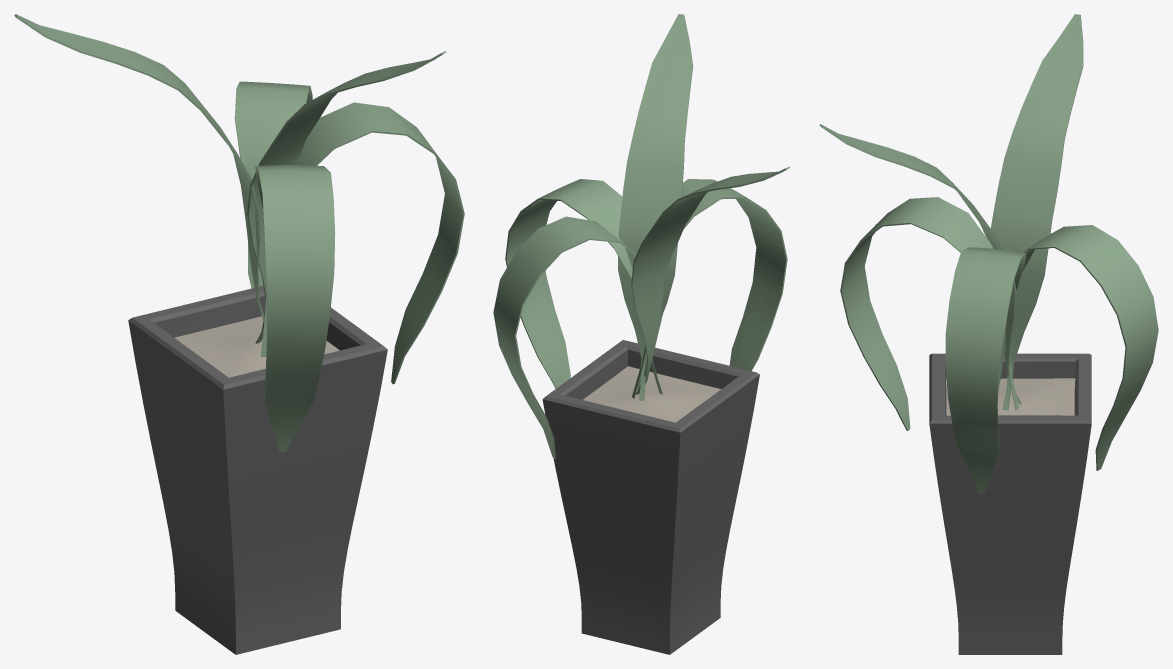
Rendered from Potplant_Large.fbx.
3 views of the same model, side by side, from view 1: azimuth 30°, elevation 25°; view 2: azimuth 150°, elevation 25°; view 3: azimuth 270°, elevation 25° (orthographic). The views are drawn at different scales.
Parts seen in each view (by area): view 1: Potplant_Pot, Potplant_Leaf4, Potplant_Leaf2, Potplant_Leaf, Potplant_Leaf1, Potplant_Leaf3; view 2: Potplant_Pot, Potplant_Leaf3, Potplant_Leaf2, Potplant_Leaf, Potplant_Leaf4, Potplant_Leaf1; view 3: Potplant_Pot, Potplant_Leaf1, Potplant_Leaf2, Potplant_Leaf, Potplant_Leaf4, Potplant_Leaf3.
Boxes of the visible parts, bbox=[...] form: Potplant_Pot: bbox=[128, 286, 387, 654]; Potplant_Leaf4: bbox=[255, 165, 335, 451]; Potplant_Leaf2: bbox=[292, 102, 464, 384]; Potplant_Leaf: bbox=[234, 81, 312, 288]; Potplant_Leaf1: bbox=[14, 14, 264, 322]; Potplant_Leaf3: bbox=[247, 51, 446, 343]; Potplant_Pot: bbox=[542, 340, 759, 654]; Potplant_Leaf3: bbox=[618, 14, 693, 400]; Potplant_Leaf2: bbox=[505, 179, 640, 389]; Potplant_Leaf: bbox=[493, 216, 645, 458]; Potplant_Leaf4: bbox=[651, 179, 787, 394]; Potplant_Leaf1: bbox=[631, 166, 790, 394]; Potplant_Pot: bbox=[929, 353, 1091, 654]; Potplant_Leaf1: bbox=[990, 14, 1083, 410]; Potplant_Leaf2: bbox=[945, 247, 1026, 493]; Potplant_Leaf: bbox=[1004, 225, 1158, 470]; Potplant_Leaf4: bbox=[840, 197, 1005, 430]; Potplant_Leaf3: bbox=[819, 124, 1021, 404].
Bounding box in the file's own units: 83.64 × 131 × 74.57.
